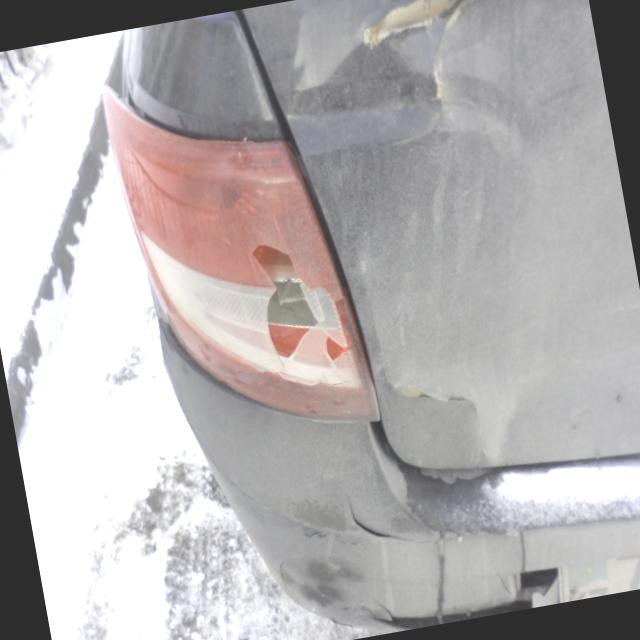Dechirure: (373, 548, 569, 634), (401, 365, 483, 433), (340, 479, 402, 568), (258, 538, 295, 599)
Phare abime: (166, 155, 364, 441)
